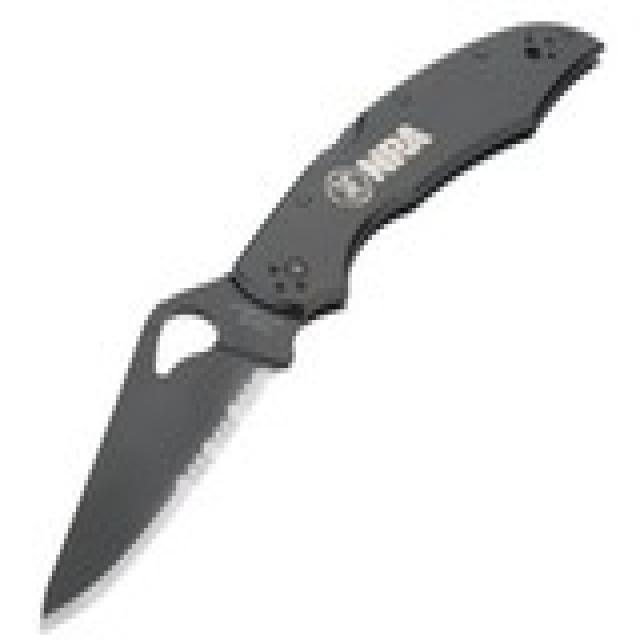Knife: (25, 13, 597, 630)
